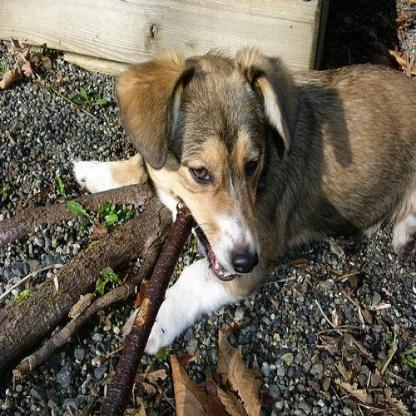Pembroke: (72, 44, 414, 353)
